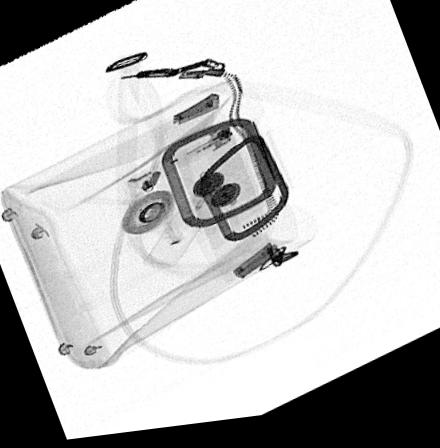Lighter: (131, 129, 231, 193)
